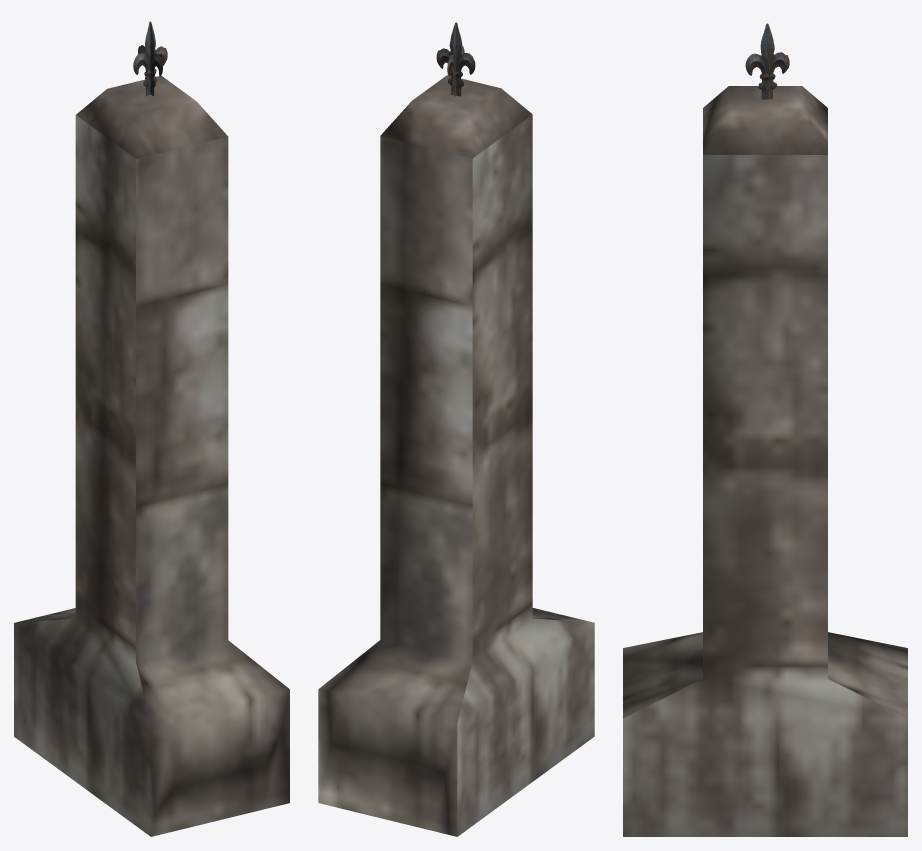
Rendered from fence_post.glb.
3 renders of one model, left to right at view 1: azimuth 30°, elevation 25°; view 2: azimuth 150°, elevation 25°; view 3: azimuth 270°, elevation 25°, orthographic. The views are drawn at different scales.
Parts seen in each view (by area): view 1: fence_post; view 2: fence_post; view 3: fence_post.
Part boxes in pixels (left/top/right/bottom): fence_post: left=14, top=21, right=289, bottom=836; fence_post: left=318, top=22, right=594, bottom=836; fence_post: left=623, top=23, right=907, bottom=836.
Bounding box in the file's own units: 0.3844 × 1.98 × 0.6565.
2 materials, 2 textured.
